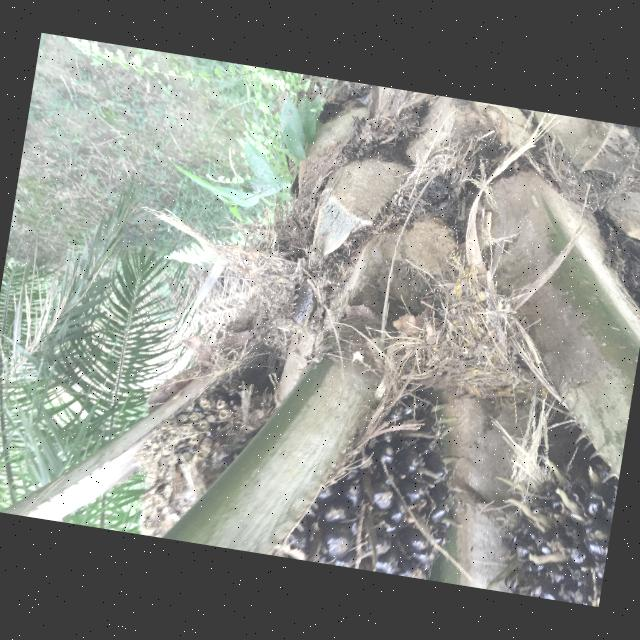Unripe: (281, 384, 465, 579), (509, 439, 620, 607)
